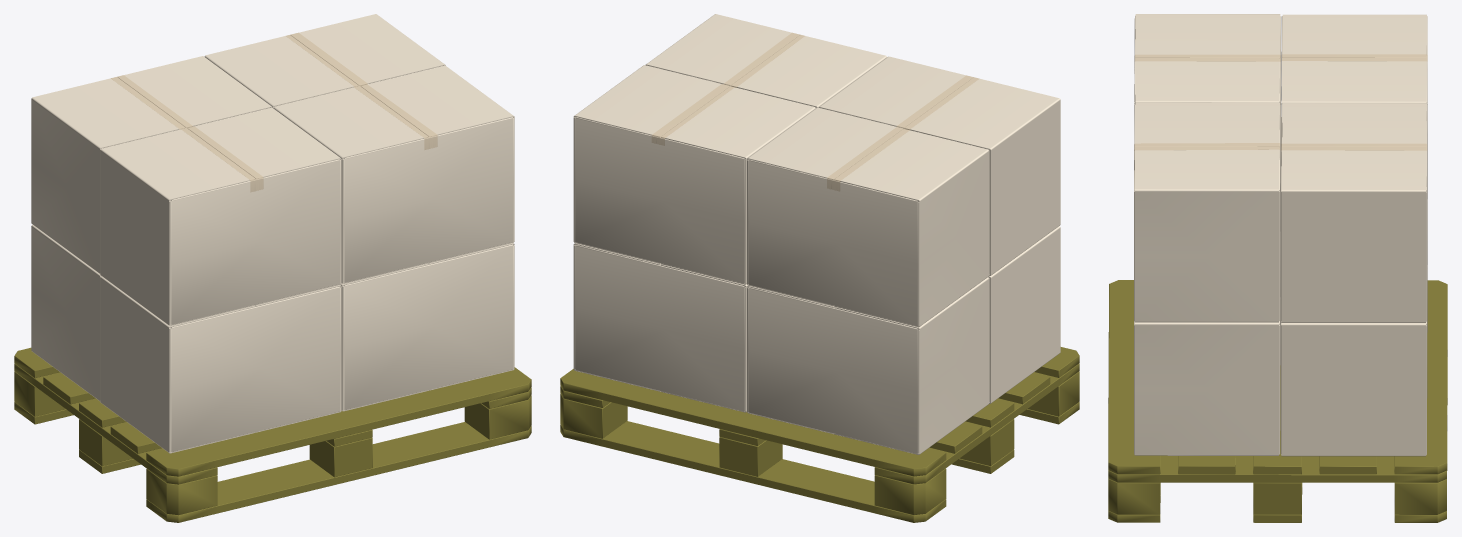
Rendered from shelf.glb.
3 views of the same model, side by side, from view 1: azimuth 30°, elevation 25°; view 2: azimuth 150°, elevation 25°; view 3: azimuth 270°, elevation 25° (orthographic). The views are drawn at different scales.
Parts seen in each view (by area): view 1: Component465-3d66-CoronaLegacyMtl-18517304-087 (×7), 木制货架.1-3d66-CoronaLegacyMtl-18517304-092, Component467-3d66-CoronaLegacyMtl-18517304-085, Component469-3d66-CoronaLegacyMtl-18517304-085, Component470-3d66-CoronaLegacyMtl-18517304-085, Component468-3d66-CoronaLegacyMtl-18517304-085; view 2: Component465-3d66-CoronaLegacyMtl-18517304-087 (×7), 木制货架.1-3d66-CoronaLegacyMtl-18517304-092, Component470-3d66-CoronaLegacyMtl-18517304-085, Component468-3d66-CoronaLegacyMtl-18517304-085, Component467-3d66-CoronaLegacyMtl-18517304-085, Component469-3d66-CoronaLegacyMtl-18517304-085; view 3: Component465-3d66-CoronaLegacyMtl-18517304-087 (×6), 木制货架.1-3d66-CoronaLegacyMtl-18517304-092, Component470-3d66-CoronaLegacyMtl-18517304-085, Component467-3d66-CoronaLegacyMtl-18517304-085, Component469-3d66-CoronaLegacyMtl-18517304-085, Component468-3d66-CoronaLegacyMtl-18517304-085.
Part boxes in pixels (x1,y1,x2,y2): Component465-3d66-CoronaLegacyMtl-18517304-087 (×7): (31, 14, 514, 453); 木制货架.1-3d66-CoronaLegacyMtl-18517304-092: (14, 347, 531, 522); Component467-3d66-CoronaLegacyMtl-18517304-085: (354, 84, 437, 149); Component469-3d66-CoronaLegacyMtl-18517304-085: (181, 126, 263, 192); Component470-3d66-CoronaLegacyMtl-18517304-085: (111, 75, 192, 129); Component468-3d66-CoronaLegacyMtl-18517304-085: (286, 33, 367, 86); Component465-3d66-CoronaLegacyMtl-18517304-087 (×7): (573, 14, 1060, 454); 木制货架.1-3d66-CoronaLegacyMtl-18517304-092: (560, 347, 1079, 522); Component470-3d66-CoronaLegacyMtl-18517304-085: (827, 127, 909, 191); Component468-3d66-CoronaLegacyMtl-18517304-085: (652, 84, 734, 145); Component467-3d66-CoronaLegacyMtl-18517304-085: (724, 33, 804, 87); Component469-3d66-CoronaLegacyMtl-18517304-085: (897, 75, 978, 129); Component465-3d66-CoronaLegacyMtl-18517304-087 (×6): (1134, 14, 1427, 456); 木制货架.1-3d66-CoronaLegacyMtl-18517304-092: (1108, 280, 1447, 522); Component470-3d66-CoronaLegacyMtl-18517304-085: (1281, 54, 1427, 61); Component467-3d66-CoronaLegacyMtl-18517304-085: (1134, 143, 1279, 150); Component469-3d66-CoronaLegacyMtl-18517304-085: (1134, 55, 1280, 70); Component468-3d66-CoronaLegacyMtl-18517304-085: (1281, 144, 1426, 150).
Bounding box in the file's own units: 121 × 98.89 × 92.65.
3 materials, 1 textured.
